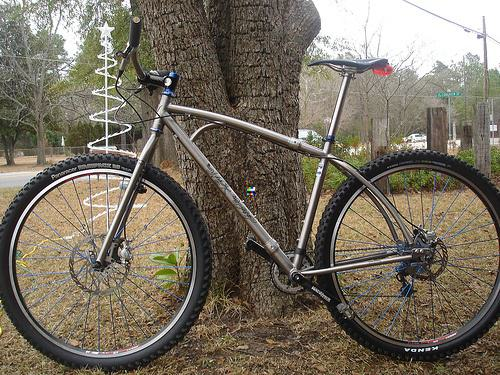car: (2, 15, 500, 367)
